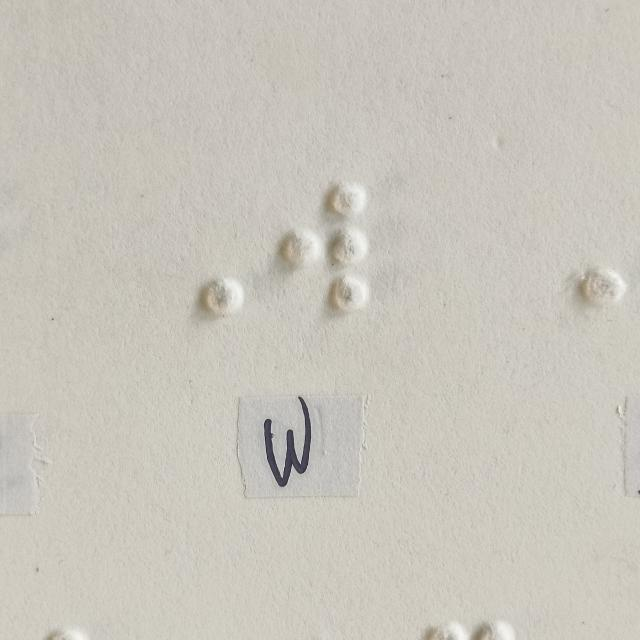capital_sign: (159, 189, 245, 317)
letter_W: (283, 182, 370, 315)
